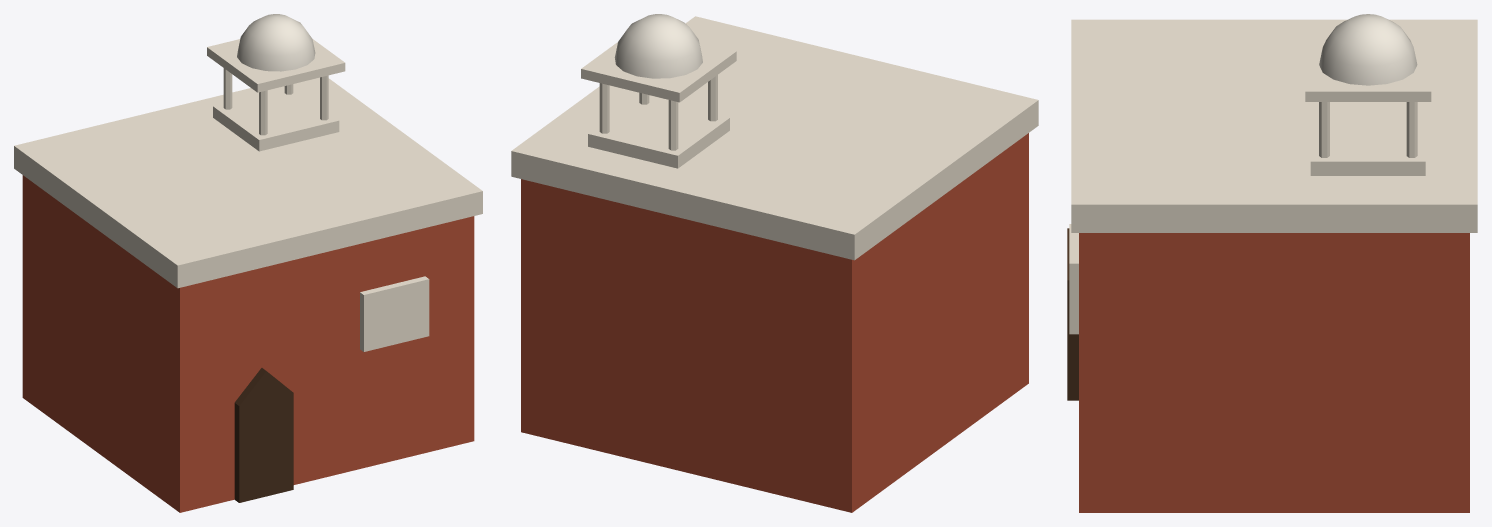
File: house.glb
3 renders of one model, left to right at view 1: azimuth 30°, elevation 25°; view 2: azimuth 150°, elevation 25°; view 3: azimuth 270°, elevation 25°, orthographic. The views are drawn at different scales.
Parts seen in each view (by area): view 1: House; view 2: House; view 3: House.
Boxes of the visible parts, x1=… form: House: x1=14, y1=14, x2=482, y2=512; House: x1=511, y1=14, x2=1038, y2=512; House: x1=1067, y1=14, x2=1477, y2=512.
Size of the model in its own units: 5.6 by 6.28 by 5.25.
